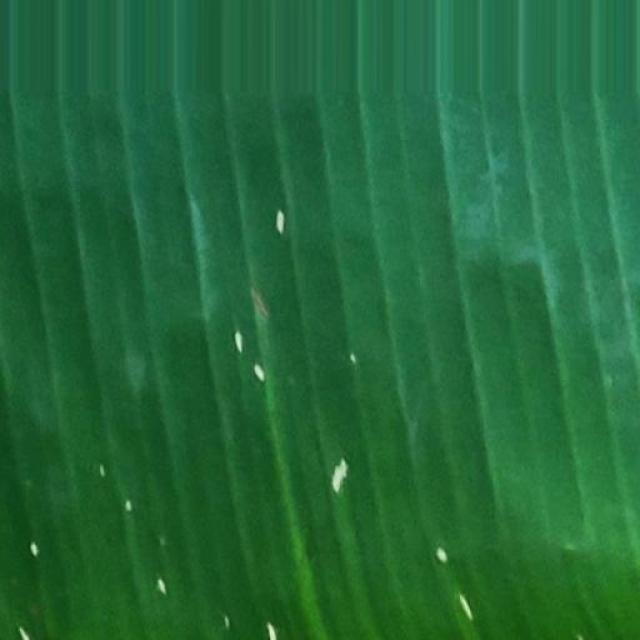Black_rot: (15, 191, 557, 640)
